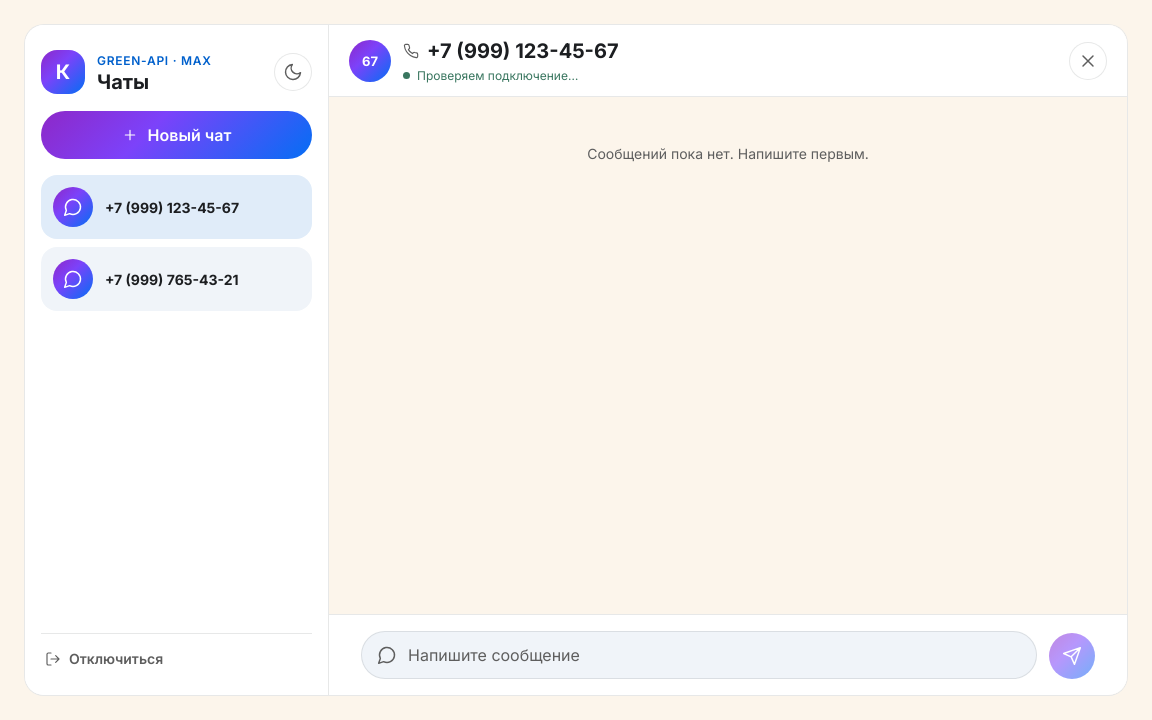
Test: preserves newer messages when an earlier send completes after leaving and returning
In the text box labelled "сообщение": (699, 655) [361,631,1037,679], type "Первое"
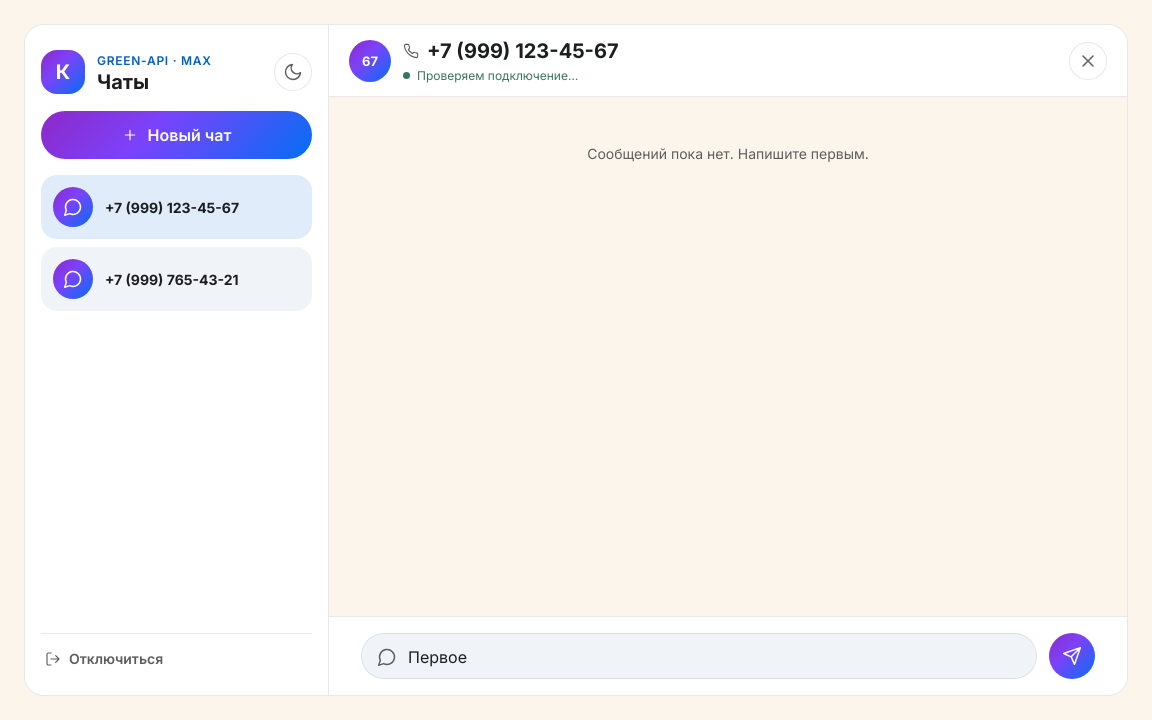
Click the button named "Отправить": (1072, 656) [1049,633,1095,679]
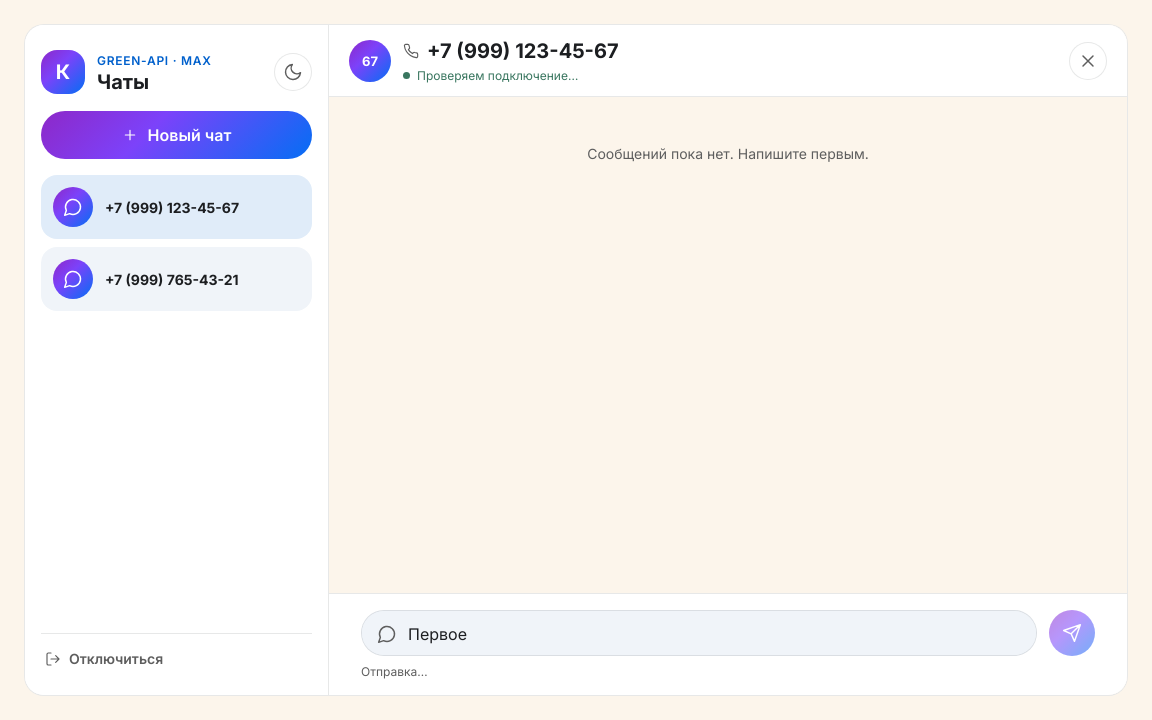
Click the button "+7 (999) 765-43-21": (176, 279) [41,247,312,311]
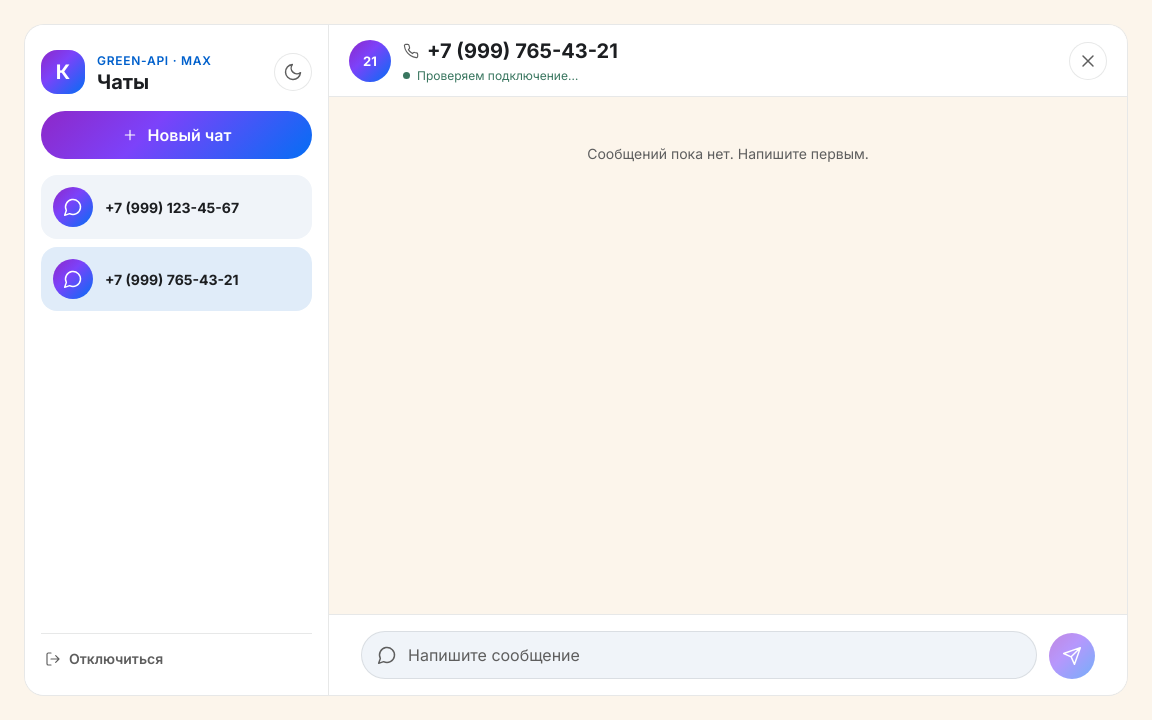
Click the button "+7 (999) 123-45-67": (176, 207) [41,175,312,239]
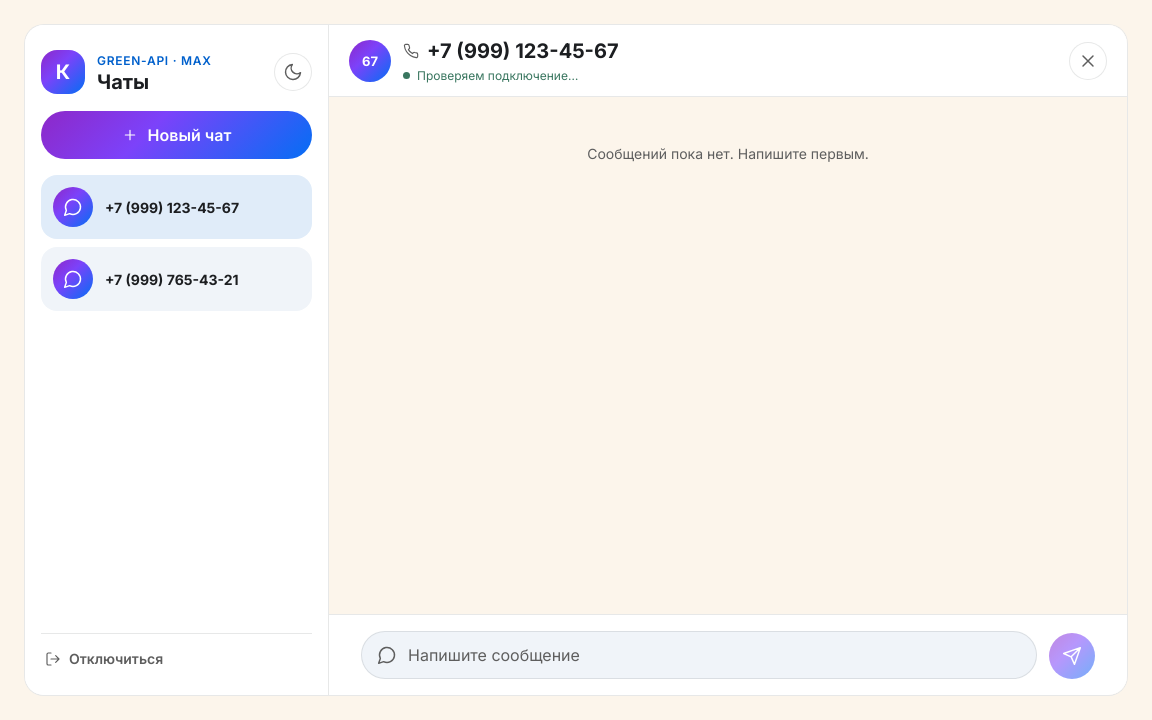
In the text box labelled "сообщение": (699, 655) [361,631,1037,679], type "Второе"
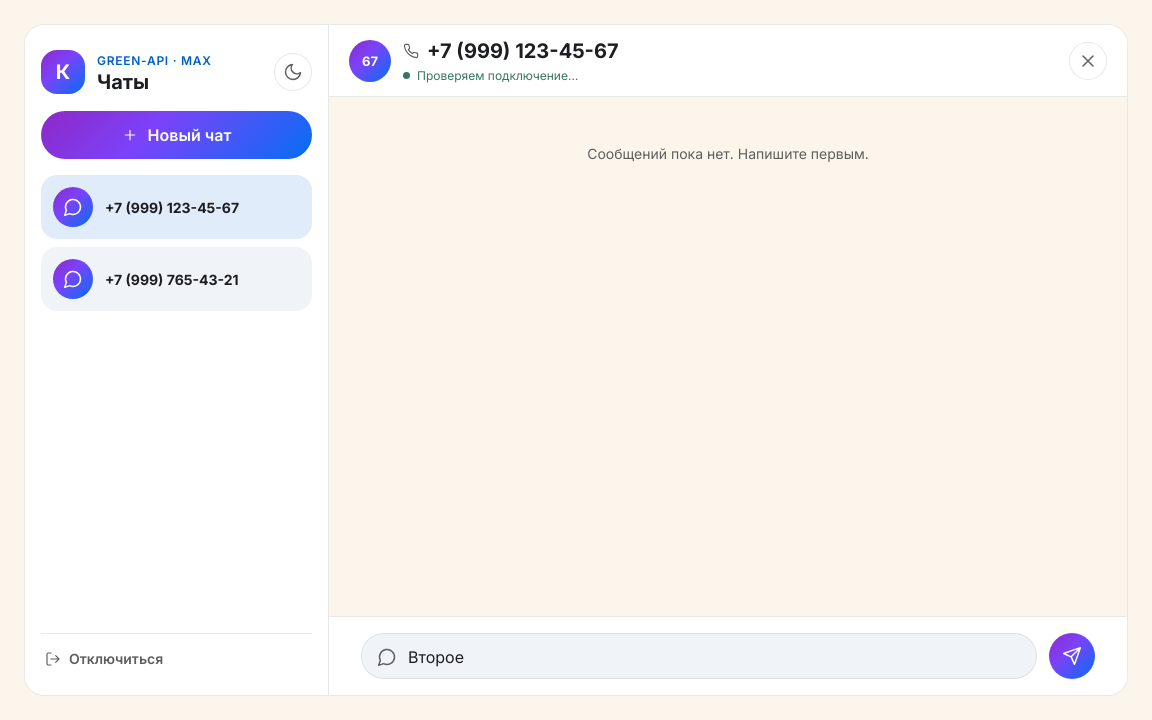
Click the button named "Отправить": (1072, 656) [1049,633,1095,679]
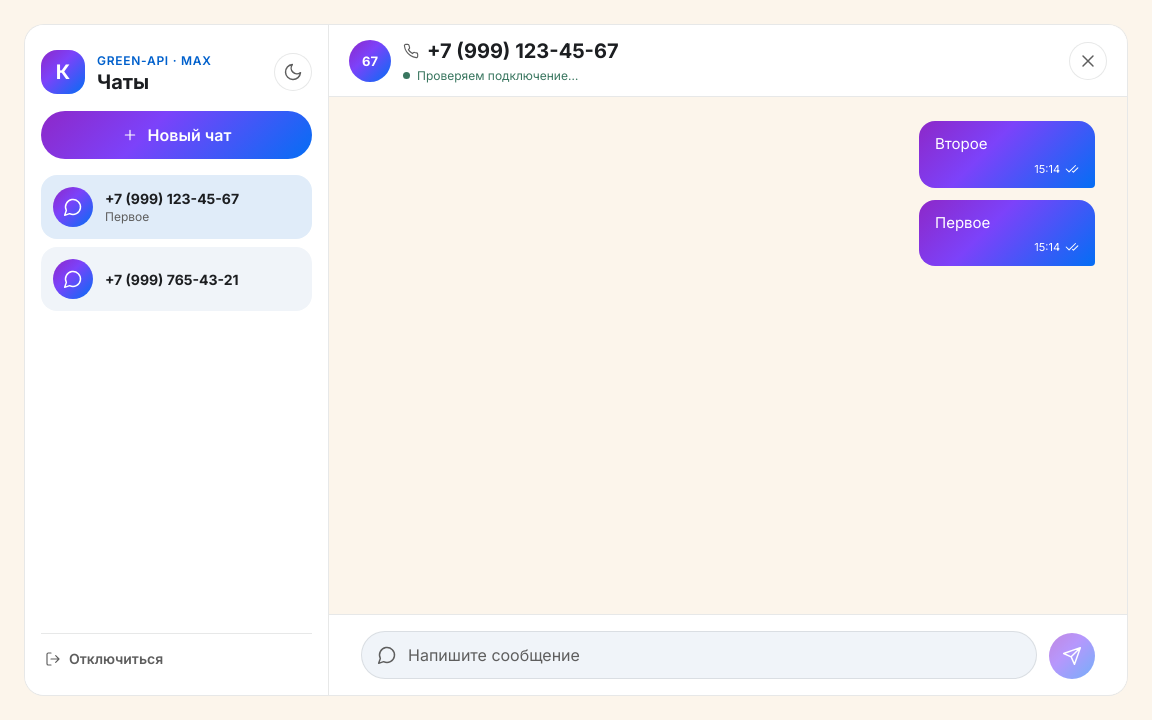
Expected: the text "Первое" below "Второе" is shown, [935,212,990,232]
Expected: the text "Второе" is shown, [935,134,988,153]
